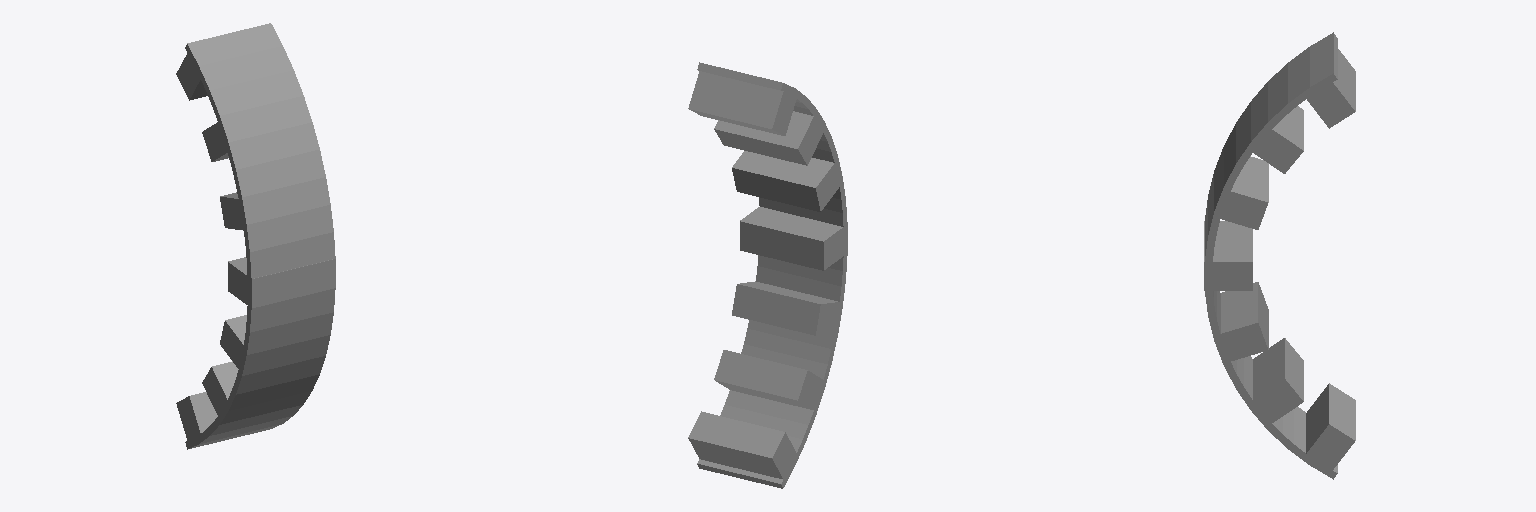
The model's file is Blocks1.obj.
The picture shows the model from 3 angles: view 1: azimuth 30°, elevation 25°; view 2: azimuth 150°, elevation 25°; view 3: azimuth 270°, elevation 25°; orthographic projection.
Visible parts, largest first — view 1: Blocks1; view 2: Blocks1; view 3: Blocks1.
Boxes of the visible parts, x1=… form: Blocks1: x1=176, y1=23, x2=335, y2=449; Blocks1: x1=688, y1=62, x2=847, y2=488; Blocks1: x1=1204, y1=32, x2=1355, y2=479.
Bounding box in the file's own units: 3 × 13.86 × 4.68.